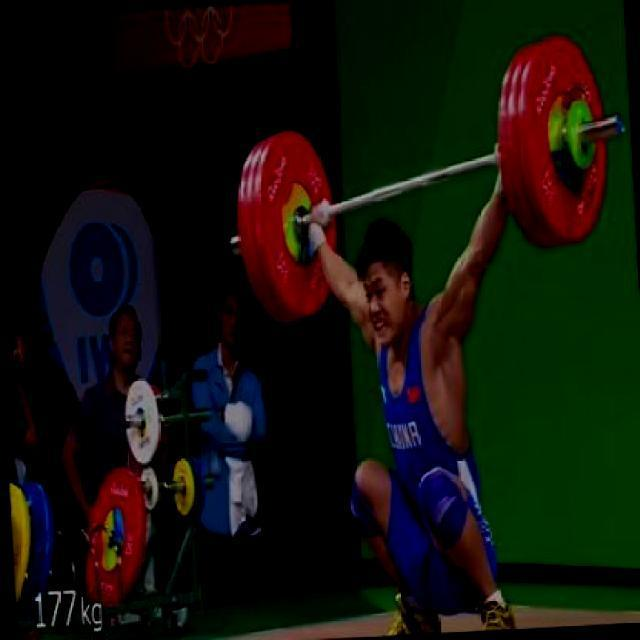non-fight: (303, 156, 532, 638)
